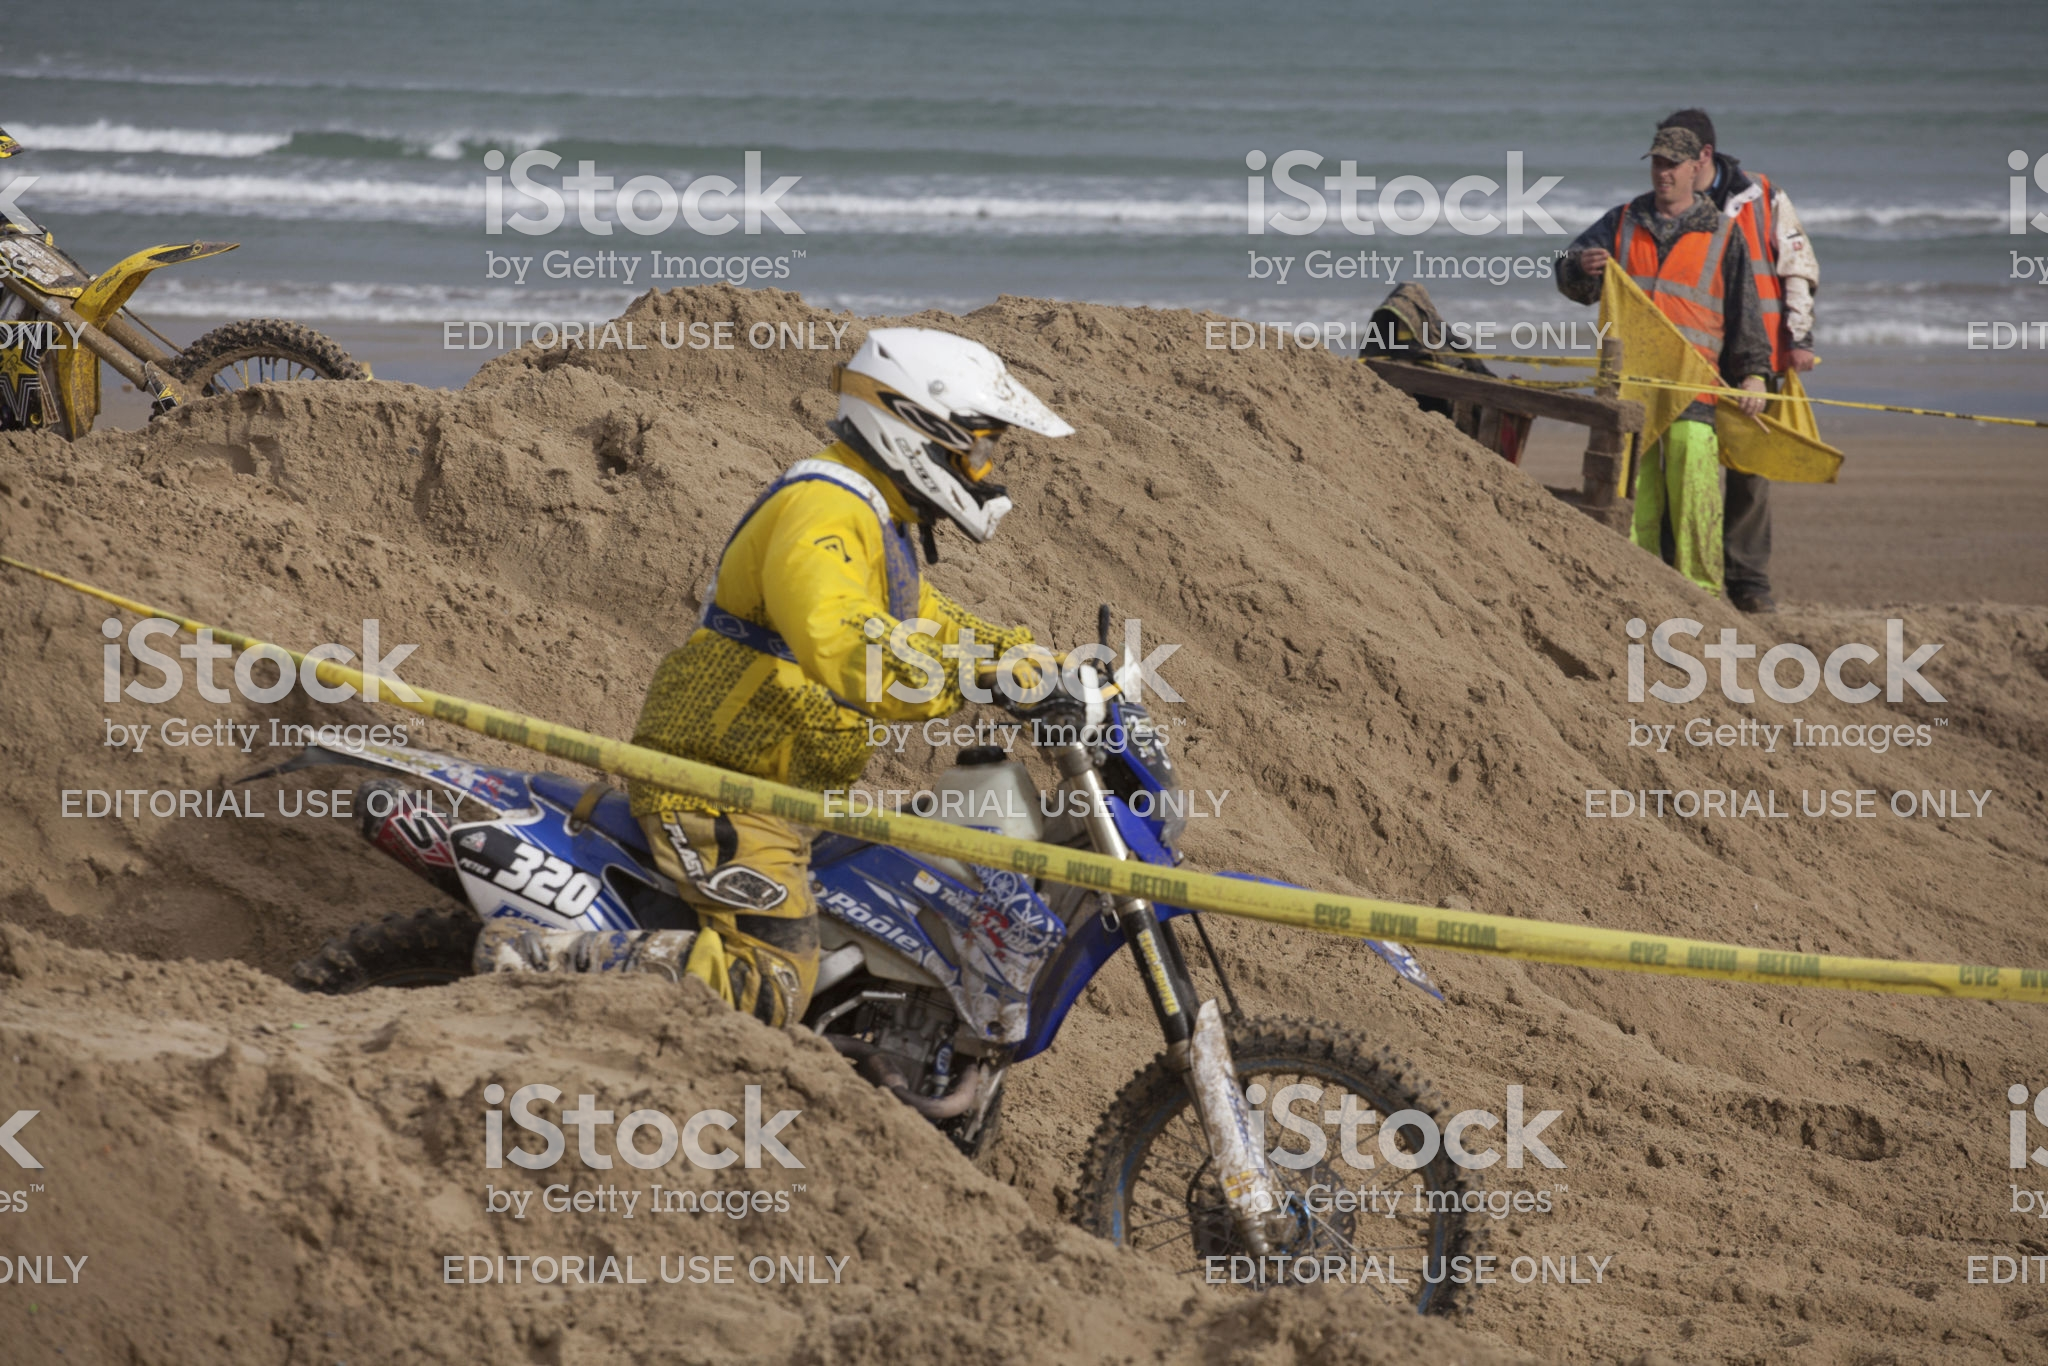helmet: (806, 322, 1070, 537)
